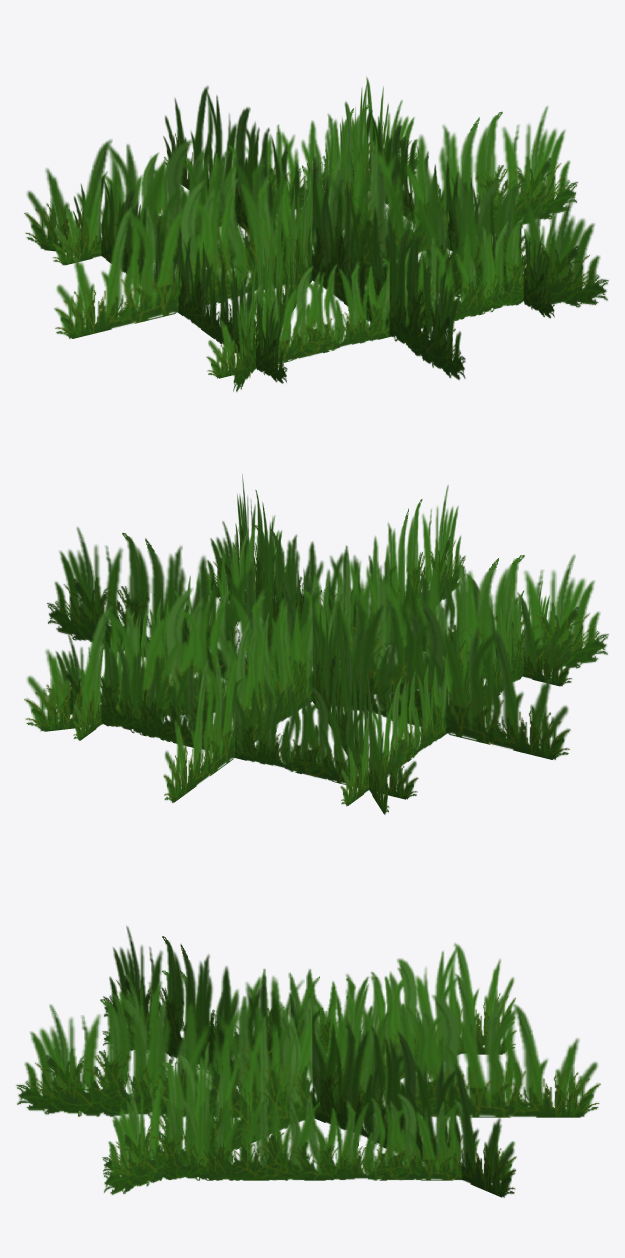
Rendered from Grass_1.glb.
3 renders of one model, top to bottom at view 1: azimuth 30°, elevation 25°; view 2: azimuth 150°, elevation 25°; view 3: azimuth 270°, elevation 25°, orthographic. The views are drawn at different scales.
Visible parts, largest first — view 1: Grass_1; view 2: Grass_1; view 3: Grass_1.
Part boxes in pixels (bbox=[...]): Grass_1: bbox=[24, 77, 608, 392]; Grass_1: bbox=[24, 474, 608, 814]; Grass_1: bbox=[16, 926, 600, 1197].
Size of the model in its own units: 0.6208 by 0.1552 by 0.6208.
Materials: 1 (1 with a texture image).
